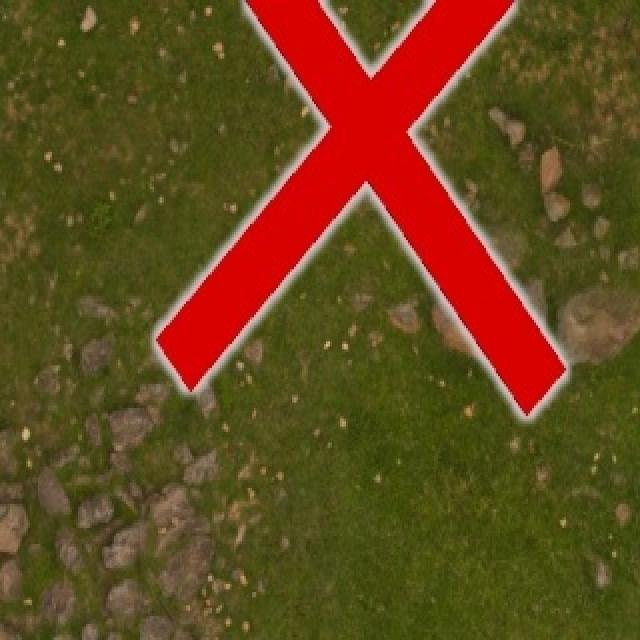x_marker: (155, 0, 565, 416)
